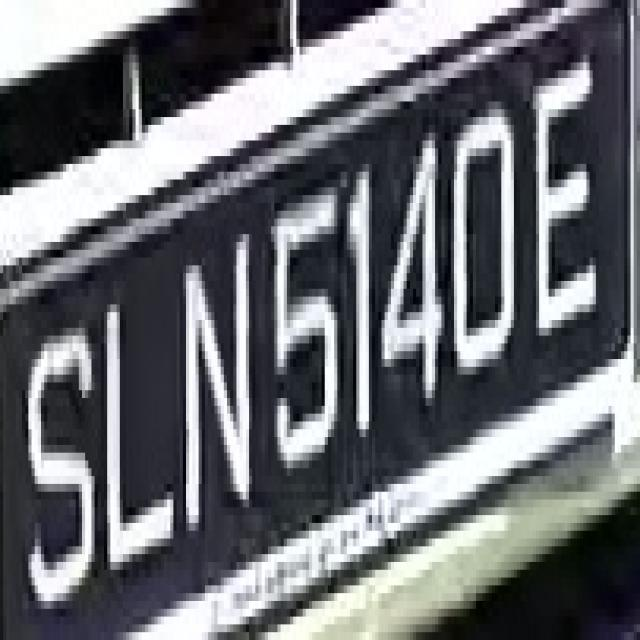0: (448, 70, 526, 406)
1: (340, 125, 384, 468)
4: (378, 78, 448, 453)
5: (262, 172, 337, 492)
E: (533, 31, 605, 351)
L: (94, 274, 180, 586)
N: (174, 226, 255, 546)
S: (19, 312, 104, 593)
